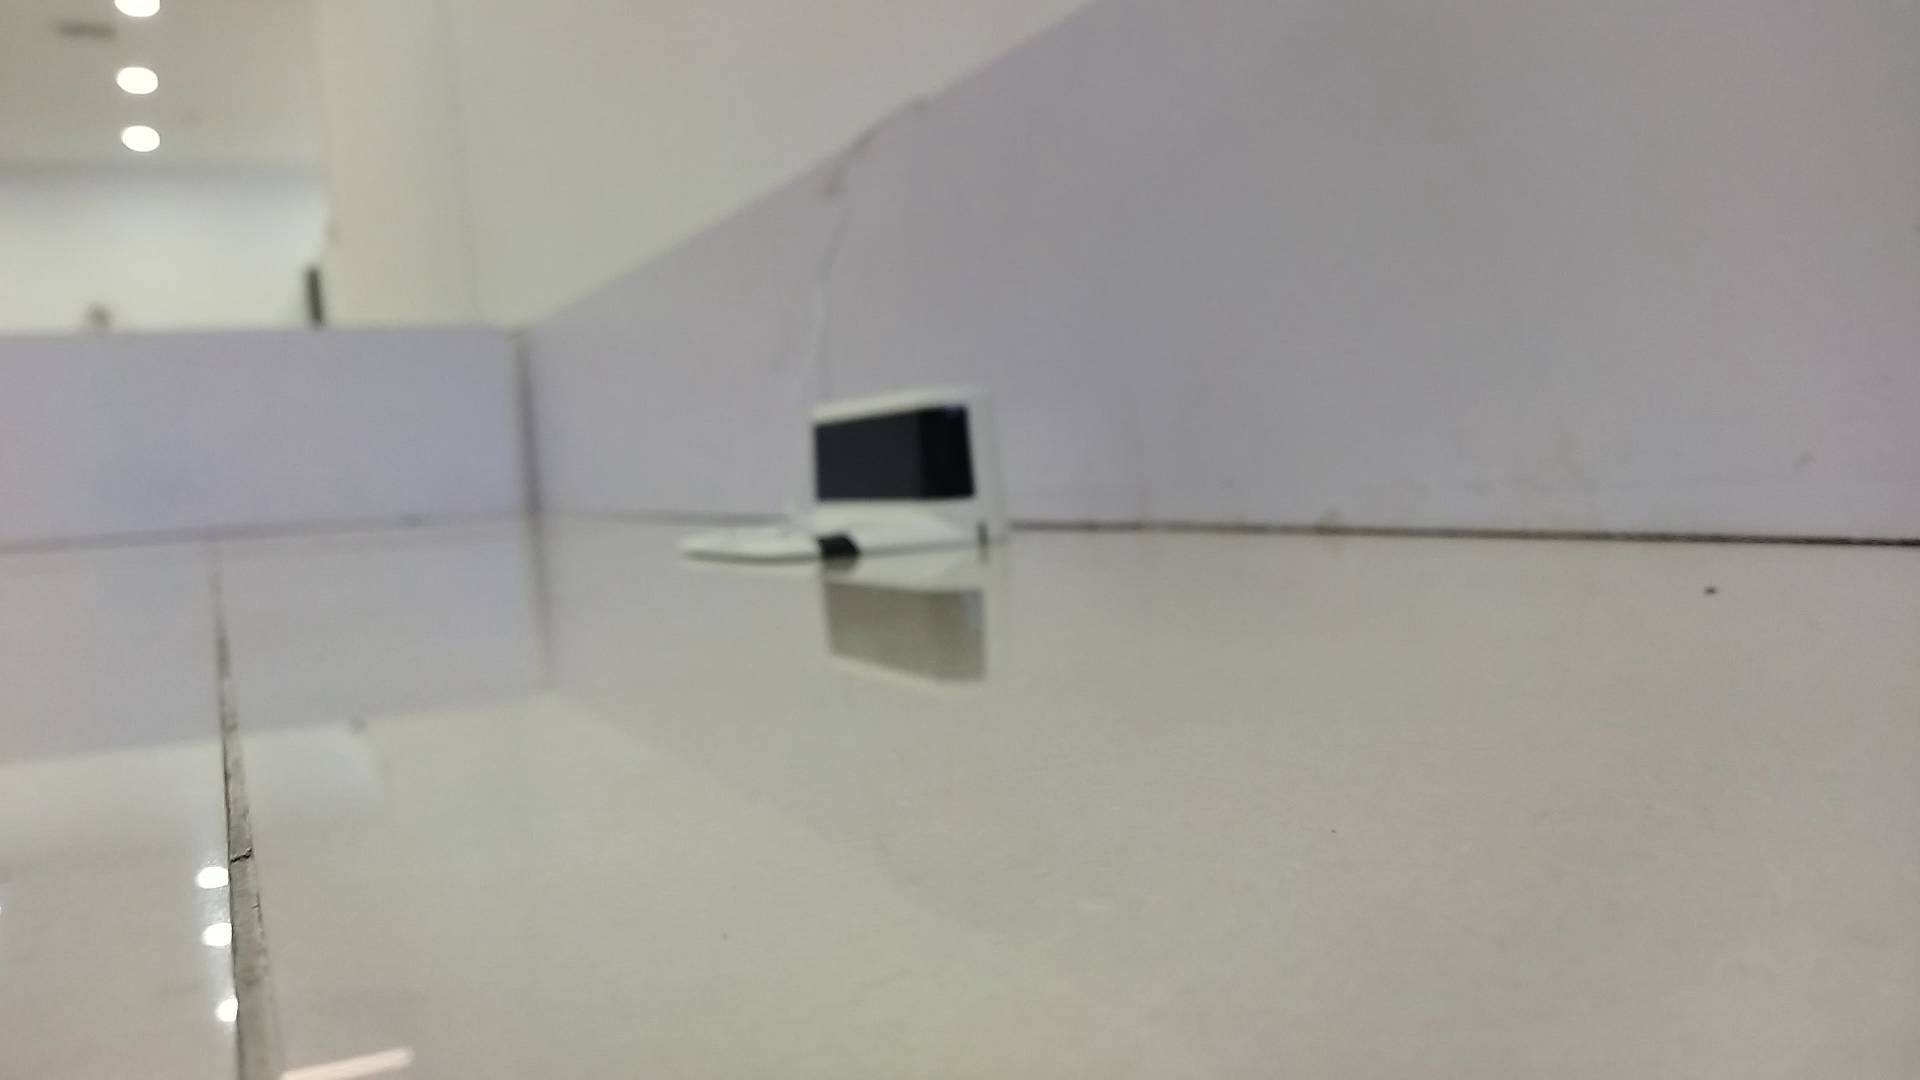recharge seat: (682, 382, 998, 556)
